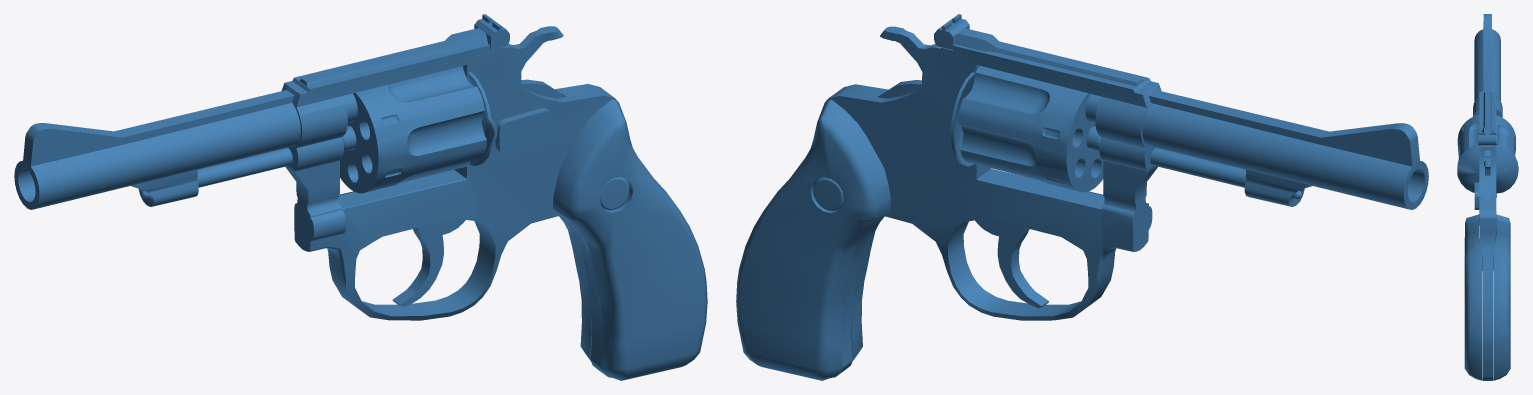
3 views of the same model, side by side, from view 1: azimuth 30°, elevation 25°; view 2: azimuth 150°, elevation 25°; view 3: azimuth 270°, elevation 25° (orthographic). The views are drawn at different scales.
Parts seen in each view (by area): view 1: Base_LP, Handle1_LP, Gunfront_LP, Bulletholder_LP, AimSup_LP, sidechip_LP, Trigger_LP, Bottomfront_LP, TriggerAb_LP, Handle2_LP, LogoHandle1_LP, Aim_LP; view 2: Base_LP, Handle2_LP, Gunfront_LP, Bulletholder_LP, AimSup_LP, Trigger_LP, Bottomfront_LP, TriggerAb_LP, Handle1_LP, LogoHandle2_LP, Aim_LP; view 3: Base_LP, Handle2_LP, Handle1_LP, Gunfront_LP, Bulletholder_LP, AimSup_LP, TriggerAb_LP, Aim_LP, sidechip_LP.
Part boxes in pixels (bbox=[...]): Base_LP: bbox=[281, 41, 618, 377]; Handle1_LP: bbox=[553, 99, 707, 380]; Gunfront_LP: bbox=[14, 90, 300, 209]; Bulletholder_LP: bbox=[340, 66, 486, 193]; AimSup_LP: bbox=[300, 28, 487, 85]; sidechip_LP: bbox=[495, 108, 555, 155]; Trigger_LP: bbox=[392, 218, 465, 306]; Bottomfront_LP: bbox=[197, 147, 292, 187]; TriggerAb_LP: bbox=[502, 26, 565, 98]; Handle2_LP: bbox=[559, 215, 591, 360]; LogoHandle1_LP: bbox=[599, 177, 629, 210]; Aim_LP: bbox=[474, 14, 509, 49]; Base_LP: bbox=[824, 41, 1161, 377]; Handle2_LP: bbox=[736, 99, 890, 380]; Gunfront_LP: bbox=[1142, 90, 1428, 209]; Bulletholder_LP: bbox=[958, 66, 1103, 192]; AimSup_LP: bbox=[955, 28, 1143, 86]; Trigger_LP: bbox=[975, 218, 1048, 307]; Bottomfront_LP: bbox=[1150, 148, 1246, 187]; TriggerAb_LP: bbox=[878, 26, 941, 98]; Handle1_LP: bbox=[851, 216, 884, 361]; LogoHandle2_LP: bbox=[813, 177, 843, 211]; Aim_LP: bbox=[934, 14, 969, 49]; Base_LP: bbox=[1457, 91, 1518, 380]; Handle2_LP: bbox=[1493, 214, 1510, 380]; Handle1_LP: bbox=[1464, 214, 1481, 380]; Gunfront_LP: bbox=[1474, 14, 1500, 101]; Bulletholder_LP: bbox=[1457, 114, 1515, 159]; AimSup_LP: bbox=[1482, 91, 1493, 133]; TriggerAb_LP: bbox=[1484, 149, 1491, 199]; Aim_LP: bbox=[1478, 132, 1496, 145]; sidechip_LP: bbox=[1474, 182, 1479, 209].
Size of the model in its own units: 10.59 by 5.88 by 1.61.
